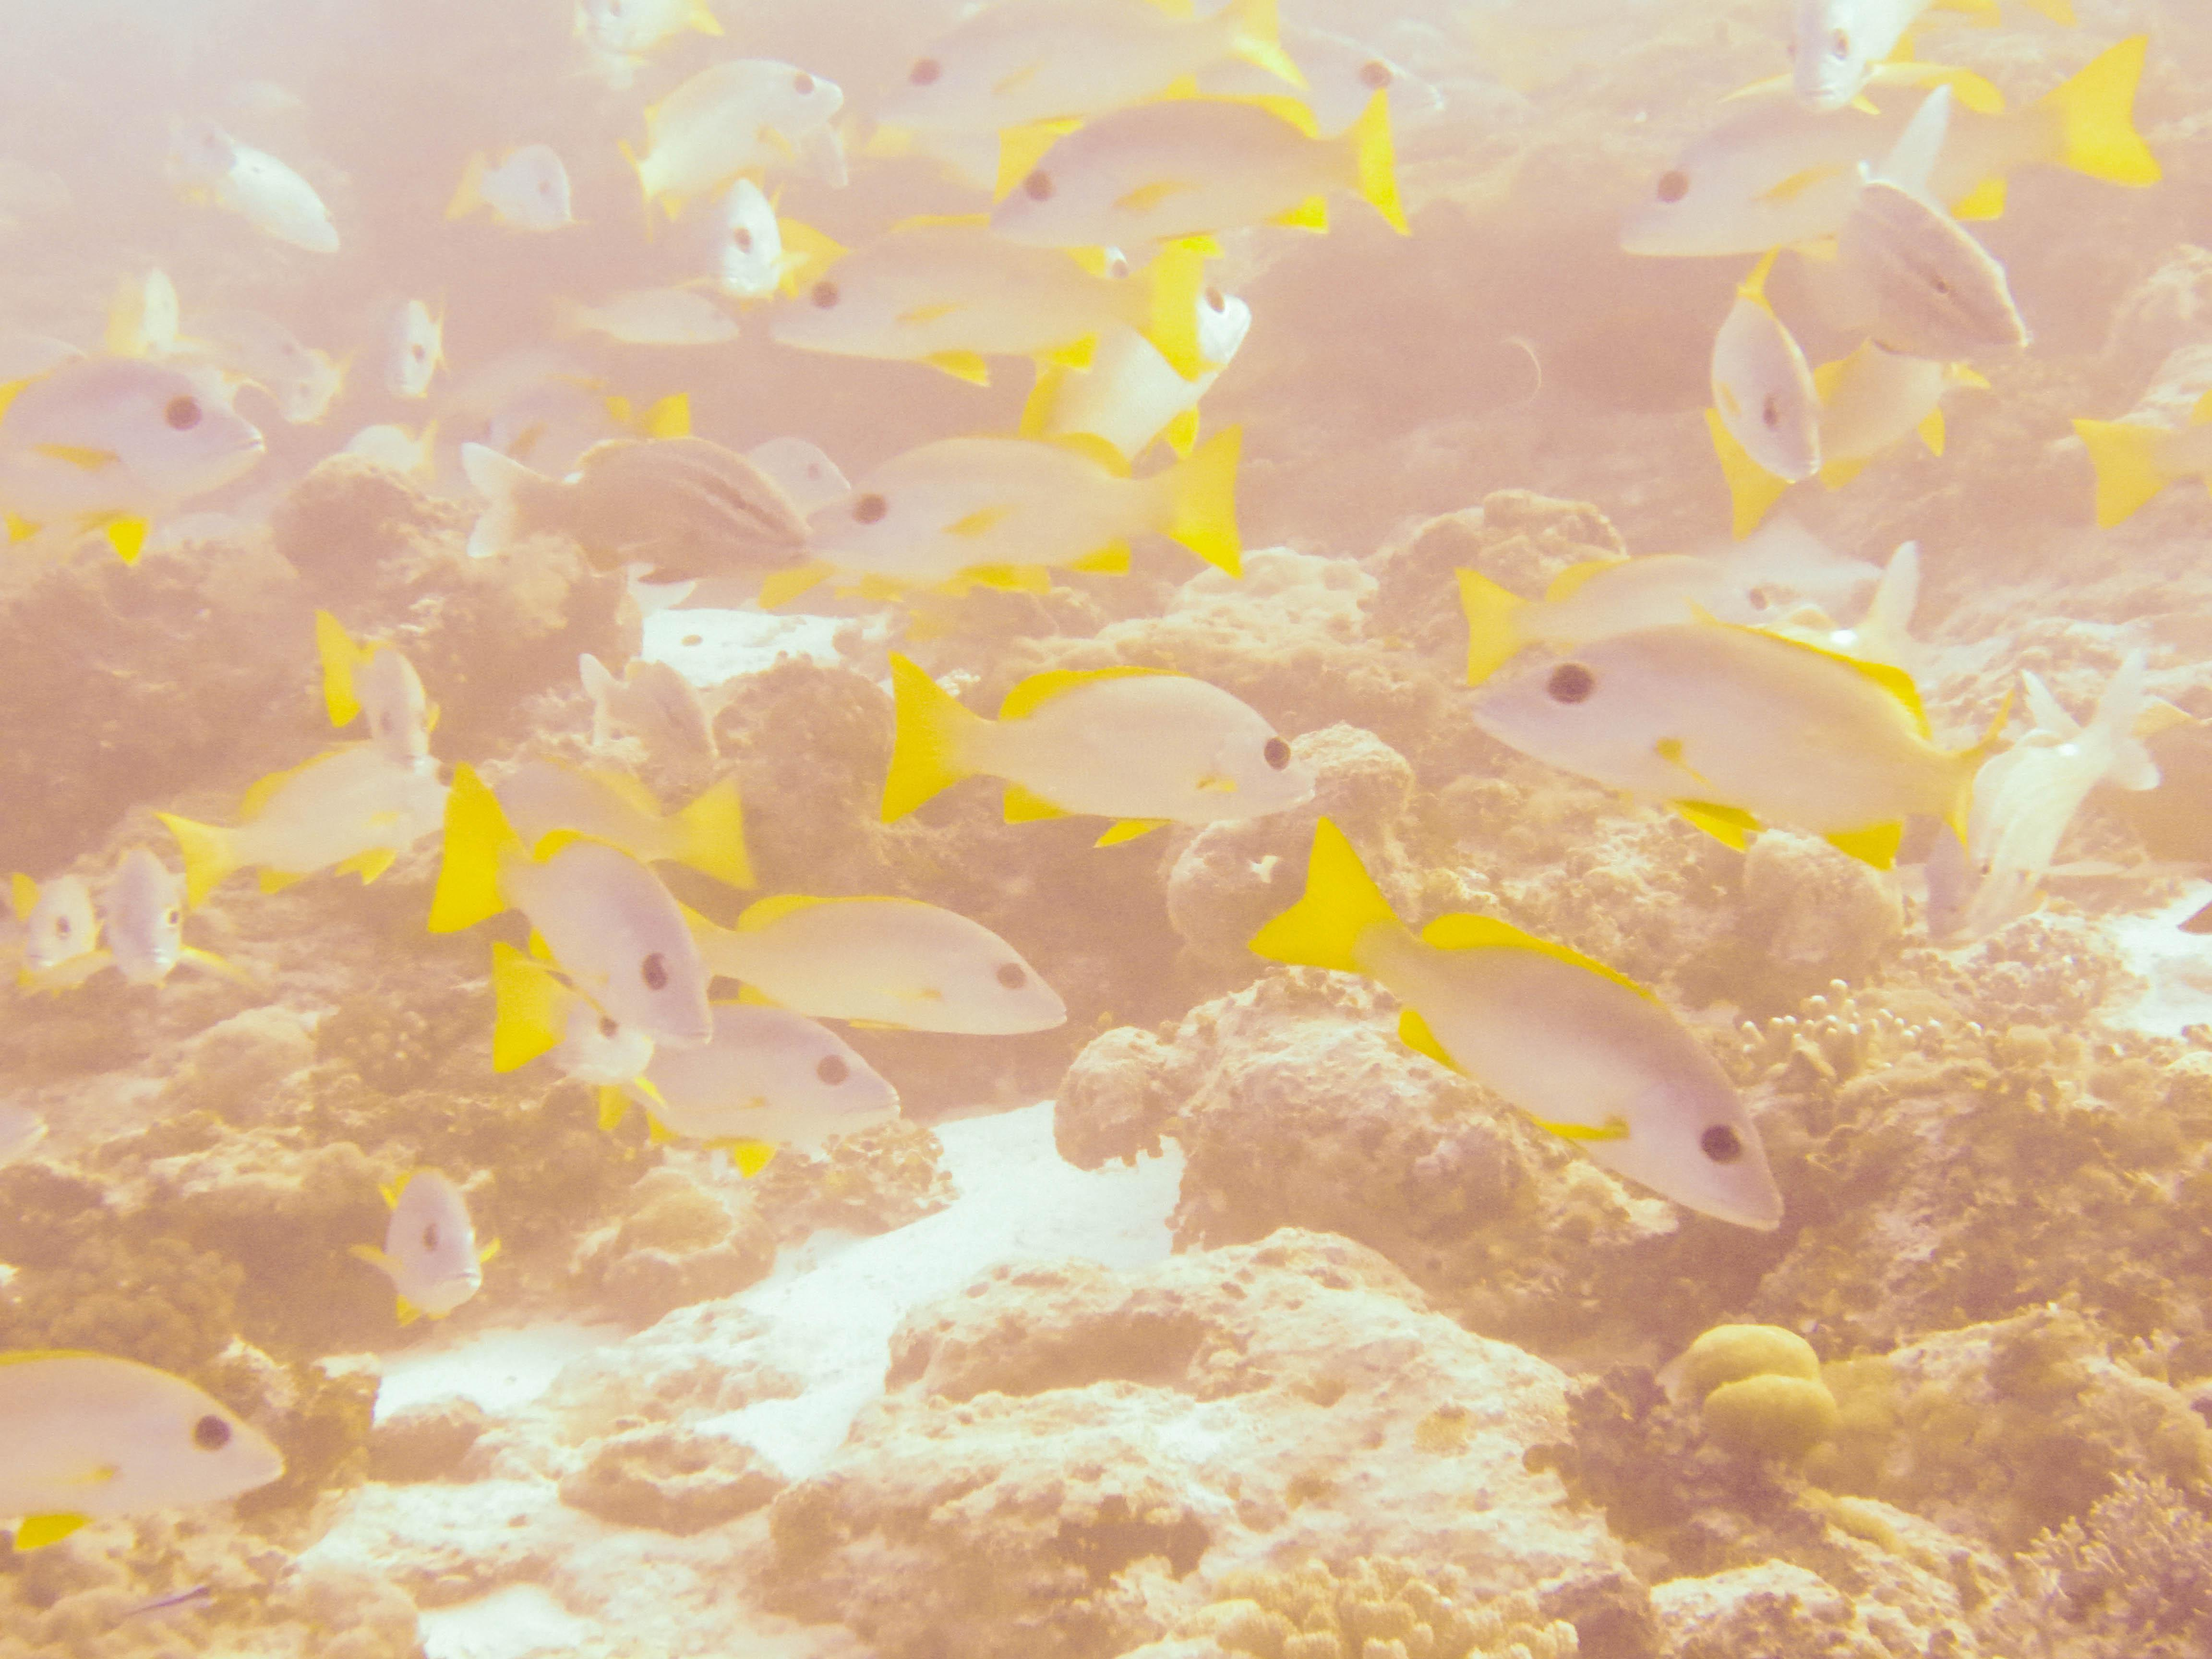Lutjanus monostigma: (1202, 828, 1865, 1274), (1446, 579, 2088, 904), (812, 629, 1383, 920), (691, 403, 1263, 657), (934, 84, 1461, 284), (401, 795, 758, 1056), (747, 211, 1233, 394), (707, 850, 1096, 1073), (261, 1133, 596, 1368), (1646, 244, 1904, 547), (1585, 82, 1970, 261)
